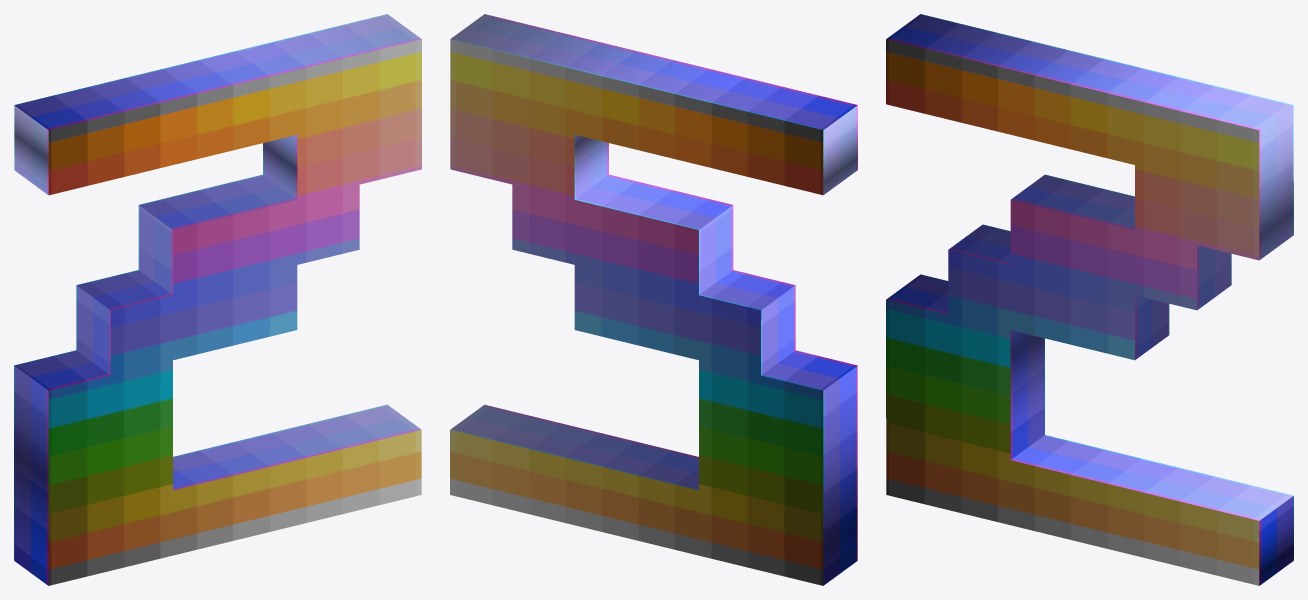
The picture shows the model from 3 angles, left to right: view 1: azimuth 30°, elevation 25°; view 2: azimuth 150°, elevation 25°; view 3: azimuth 330°, elevation 25°; orthographic projection.
Visible parts, largest first — view 1: z; view 2: z; view 3: z.
Boxes of the visible parts, x1=… form: z: x1=14, y1=14, x2=421, y2=585; z: x1=450, y1=14, x2=857, y2=585; z: x1=886, y1=14, x2=1293, y2=585.
Size of the model in its own units: 0.5 by 0.5834 by 0.0803.
1 material, 1 textured.
